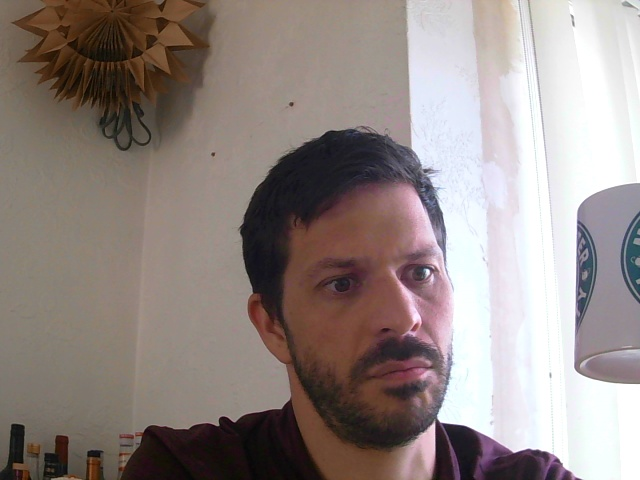mug: (576, 176, 640, 383)
